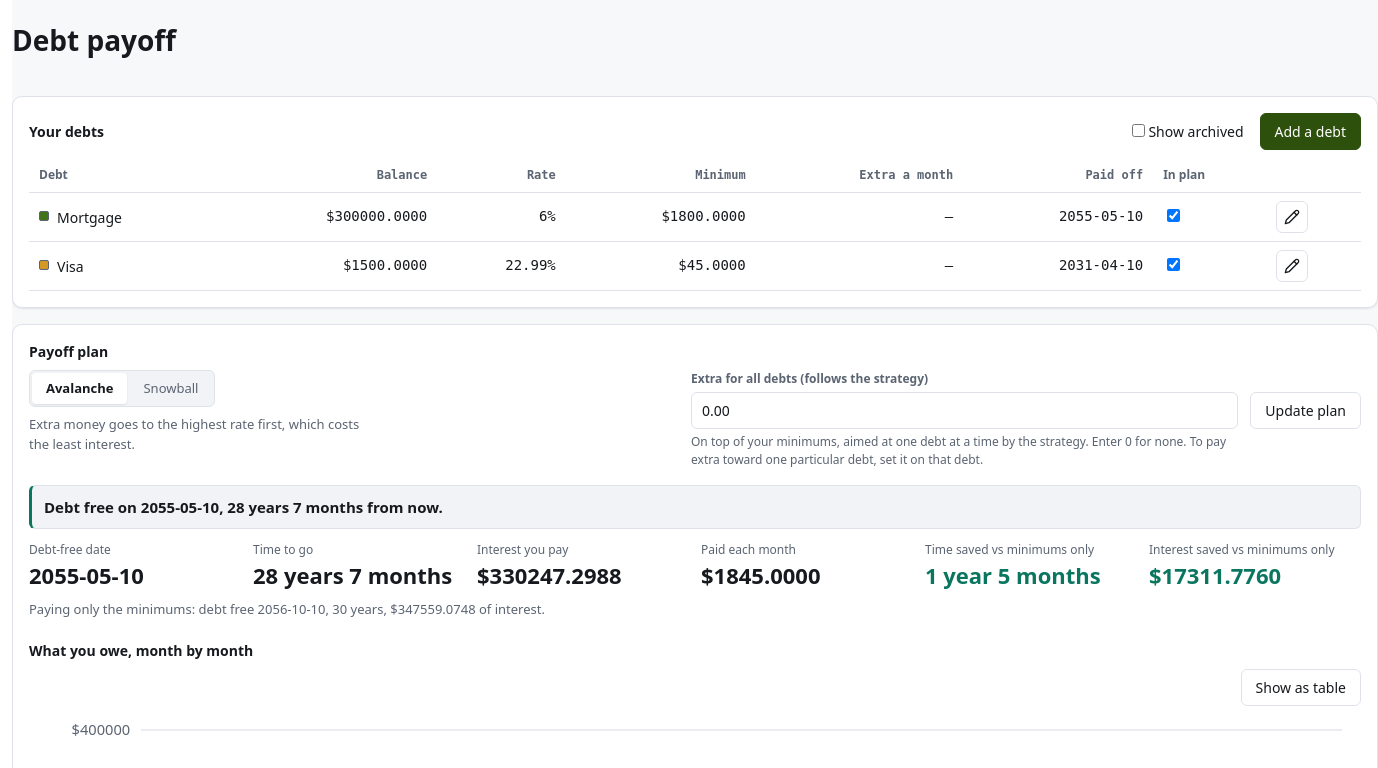
Scenario: leaving a debt out of the plan › brings it back with the same box
The image size is (1378, 768).
Expected: the text "Debt free on 2055-05-10, 28 years 7 months from now." is shown, [29,484,1361,529]
Click the checkbox named "Include Mortgage in the payoff plan" at (1174, 216), box [1167,209,1180,222]
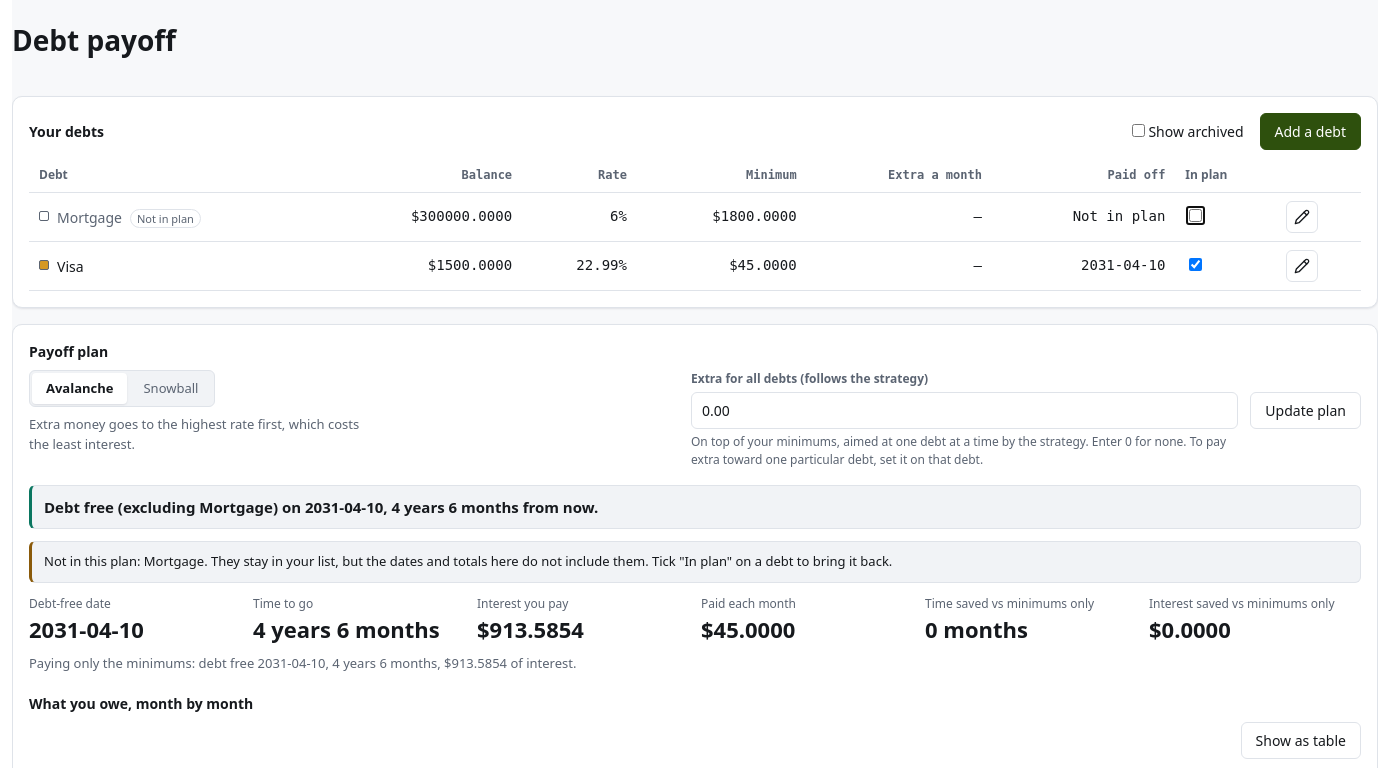
Result: the text "Debt free (excluding Mortgage) on 2031-04-10, 4 years 6 months from now." is shown at [29,484,1361,529]
Click the checkbox named "Include Mortgage in the payoff plan" at (1196, 216), box [1189,209,1202,222]
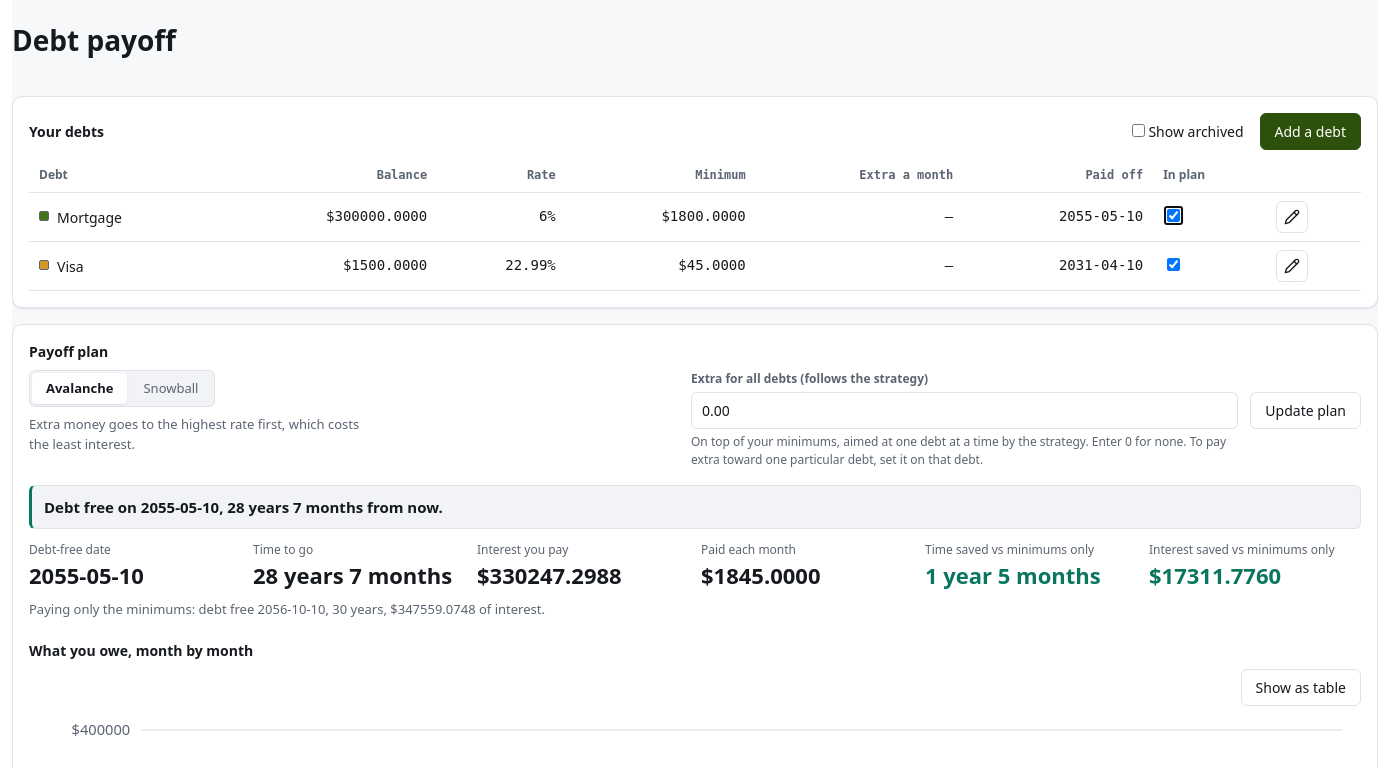
Result: the text "excluding Mortgage" is gone
